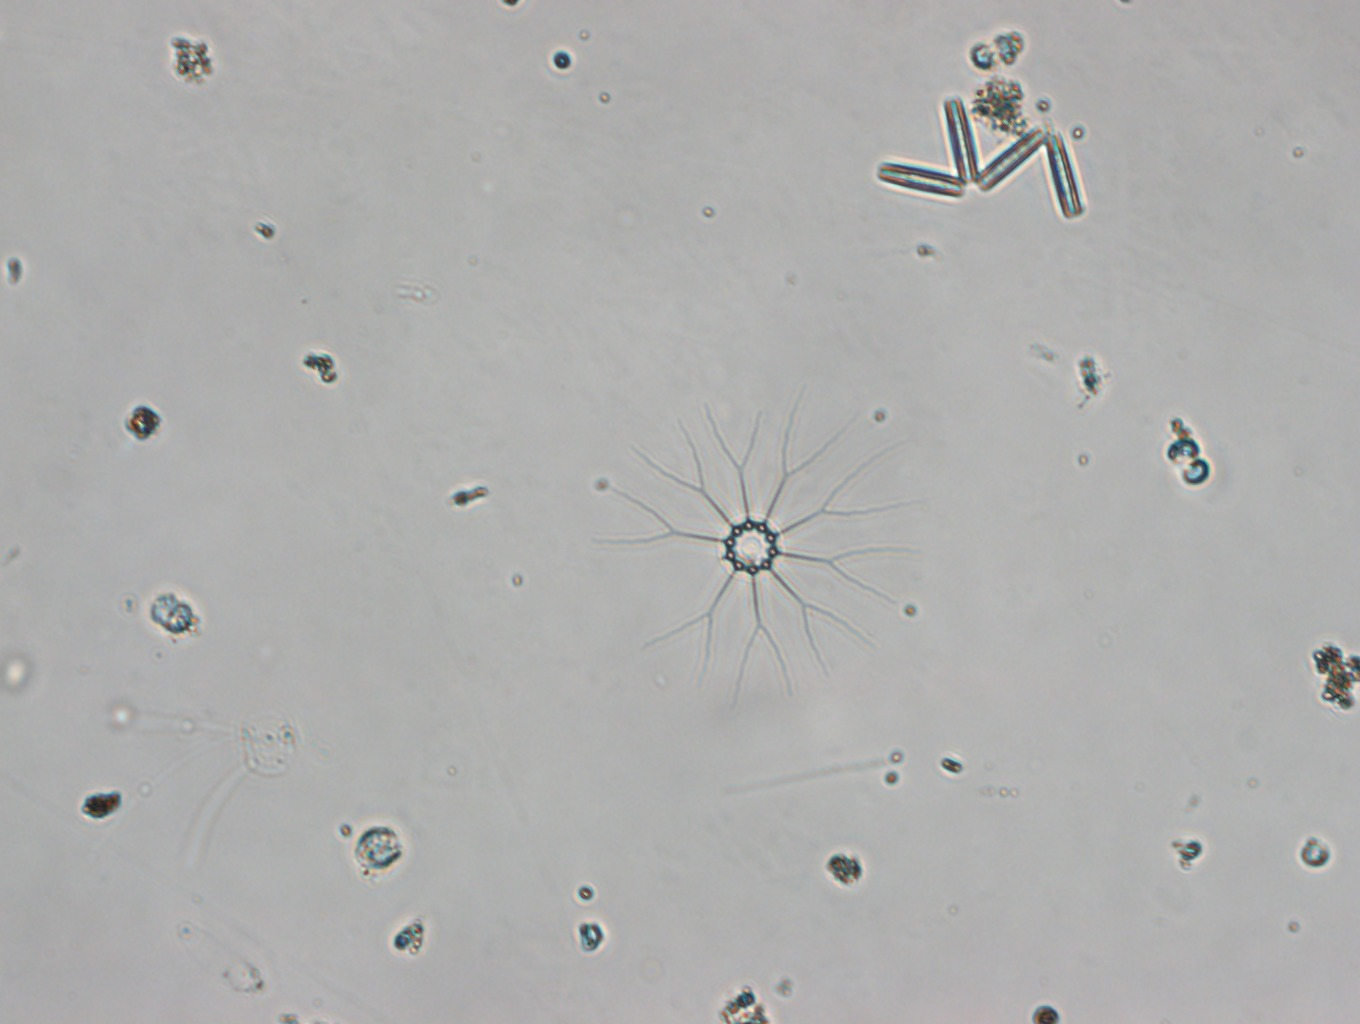bacteriastrum: (596, 402, 918, 712)
thalassionema nitzschioides: (875, 90, 1097, 226)
